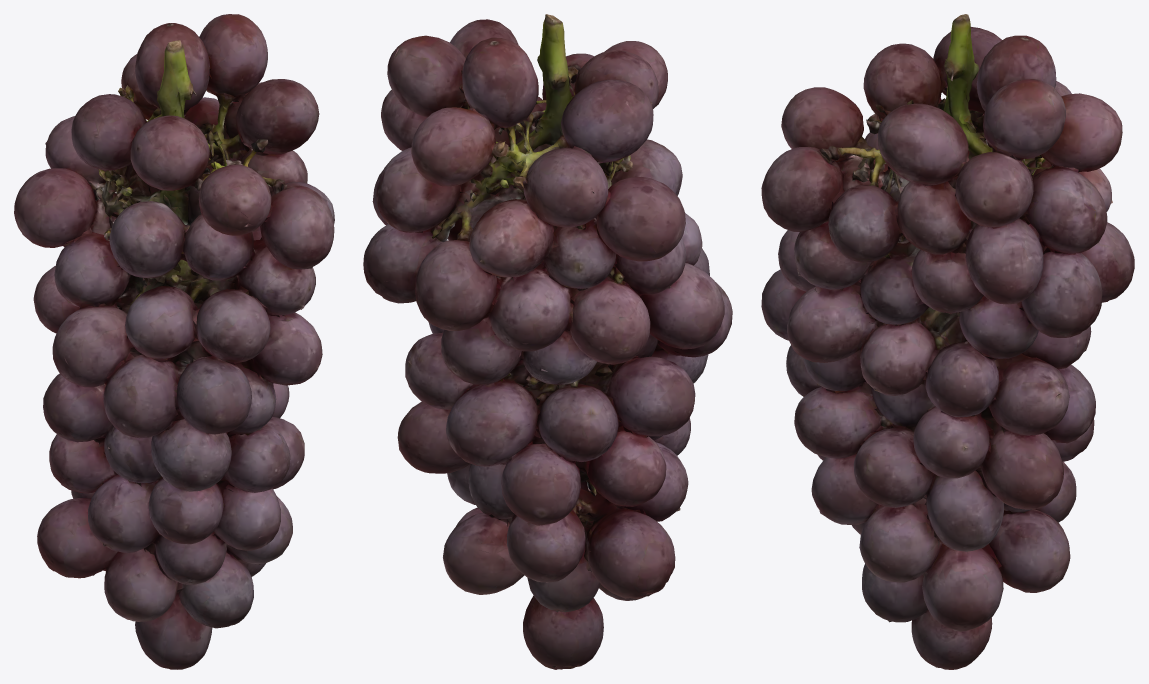
File: grape-transformed.glb
3 renders of one model, left to right at view 1: azimuth 30°, elevation 25°; view 2: azimuth 150°, elevation 25°; view 3: azimuth 270°, elevation 25°, orthographic. The views are drawn at different scales.
Parts seen in each view (by area): view 1: Object_2; view 2: Object_2; view 3: Object_2.
Boxes of the visible parts, <box> form: Object_2: <box>14,14,334,669</box>; Object_2: <box>363,14,732,669</box>; Object_2: <box>761,14,1134,669</box>.
Bounding box in the file's own units: 12.13 × 25.51 × 13.17.
Materials: 1 (1 with a texture image).
